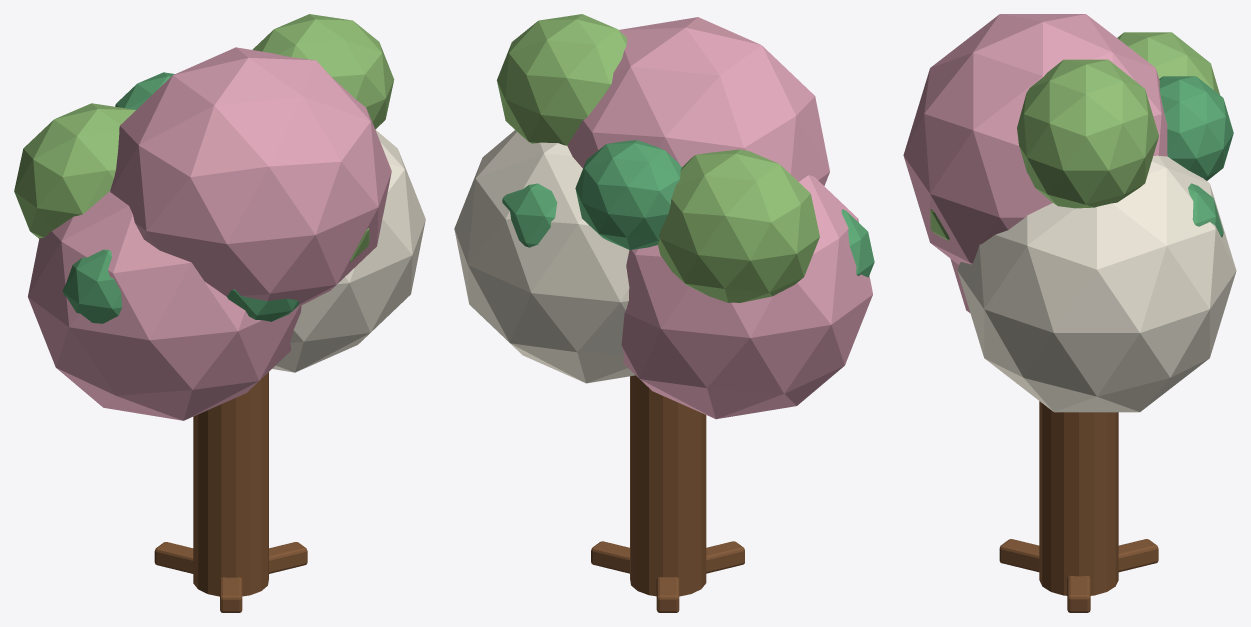
Rendered from NAT_TREE_FLOWER_1x1_001.glb.
3 renders of one model, left to right at view 1: azimuth 30°, elevation 25°; view 2: azimuth 150°, elevation 25°; view 3: azimuth 270°, elevation 25°, orthographic. The views are drawn at different scales.
Visible parts, largest first — view 1: NAT_TREE_FLOWER_1x1_001_Visual; view 2: NAT_TREE_FLOWER_1x1_001_Visual; view 3: NAT_TREE_FLOWER_1x1_001_Visual.
Part boxes in pixels (x1,y1,x2,y2): NAT_TREE_FLOWER_1x1_001_Visual: (14, 14, 425, 612); NAT_TREE_FLOWER_1x1_001_Visual: (454, 14, 874, 612); NAT_TREE_FLOWER_1x1_001_Visual: (903, 14, 1236, 612).
Size of what is drawn, in the model's own units: 1.22 by 1.71 by 0.924.
